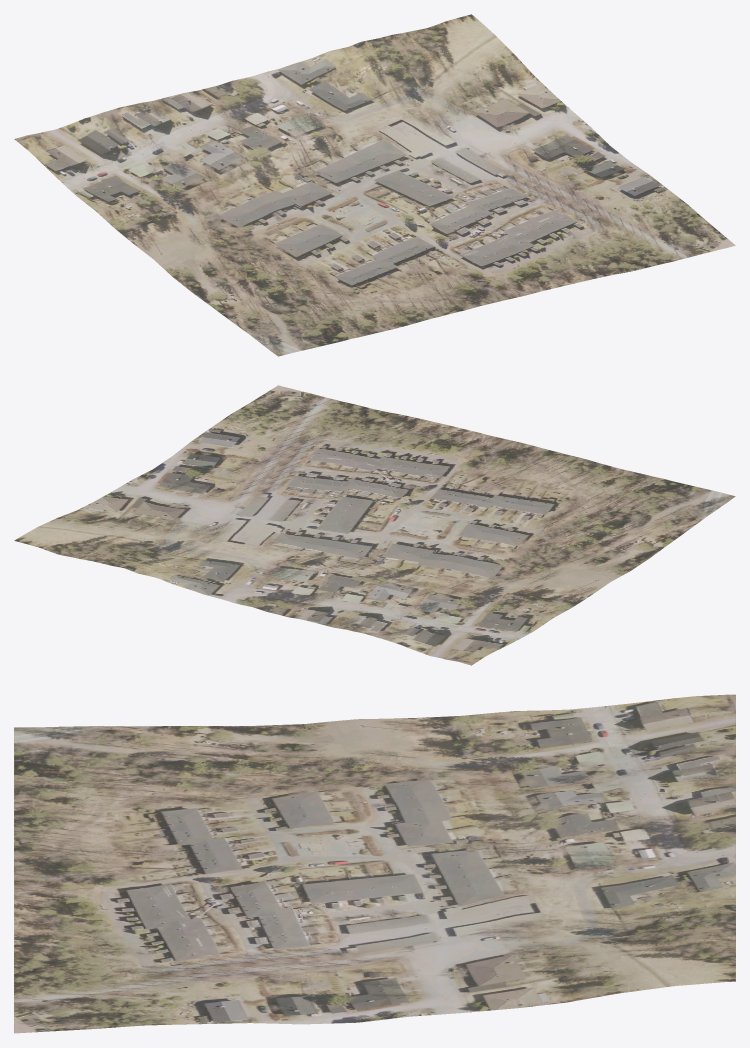
File: CM_Terrain_24492097_6814469.fbx
3 views of the same model, one above another, from view 1: azimuth 30°, elevation 25°; view 2: azimuth 150°, elevation 25°; view 3: azimuth 270°, elevation 25° (orthographic). The views are drawn at different scales.
Visible parts, largest first — view 1: CM_Terrain_24492097_6814469_LOD0; view 2: CM_Terrain_24492097_6814469_LOD0; view 3: CM_Terrain_24492097_6814469_LOD0.
Part boxes in pixels (x1,y1,x2,y2): CM_Terrain_24492097_6814469_LOD0: [14, 14, 735, 356]; CM_Terrain_24492097_6814469_LOD0: [14, 385, 735, 665]; CM_Terrain_24492097_6814469_LOD0: [14, 694, 735, 1033].
Size of what is drawn, in the model's own units: 205 by 16.51 by 205.
